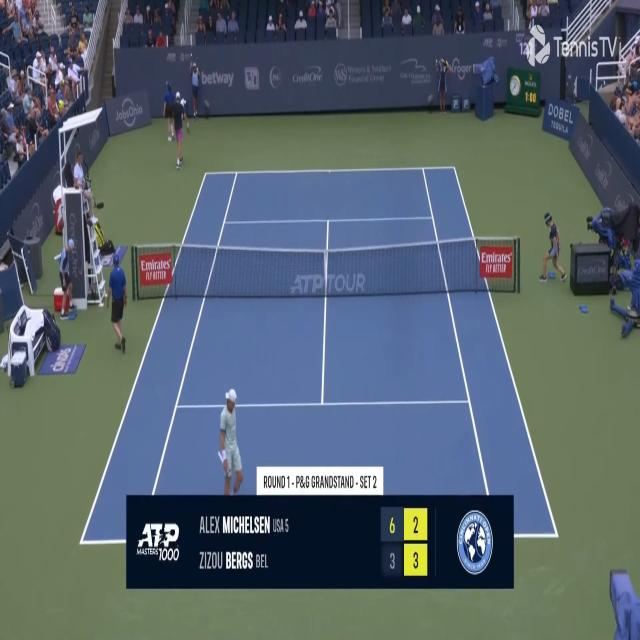tennis-player: (217, 385, 246, 497), (169, 88, 192, 170)
